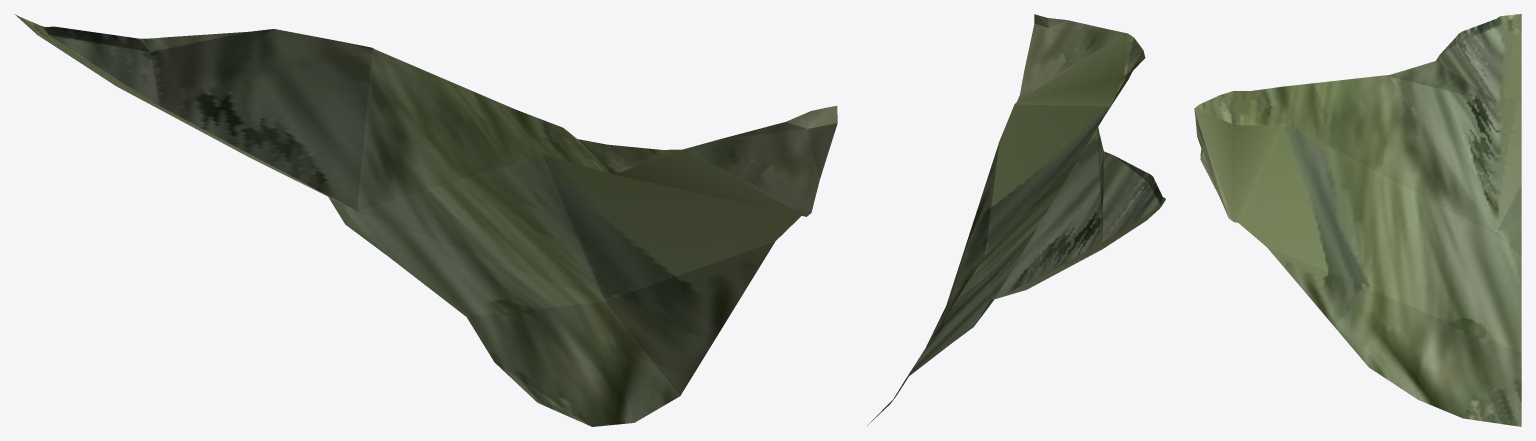
The picture shows the model from 3 angles, left to right: view 1: azimuth 30°, elevation 25°; view 2: azimuth 150°, elevation 25°; view 3: azimuth 270°, elevation 25°; orthographic projection. The views are drawn at different scales.
Size of the model in its own units: 1.45 by 1.37 by 1.47.
1 material, 1 textured.
